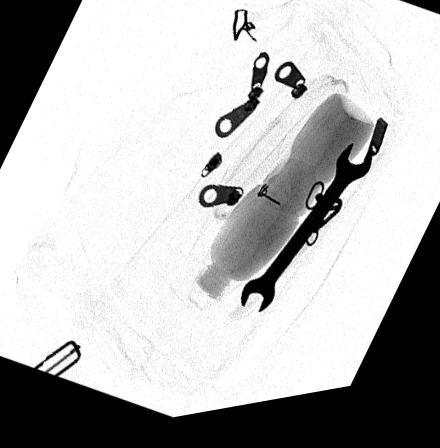Wrench: (240, 155, 375, 321)
